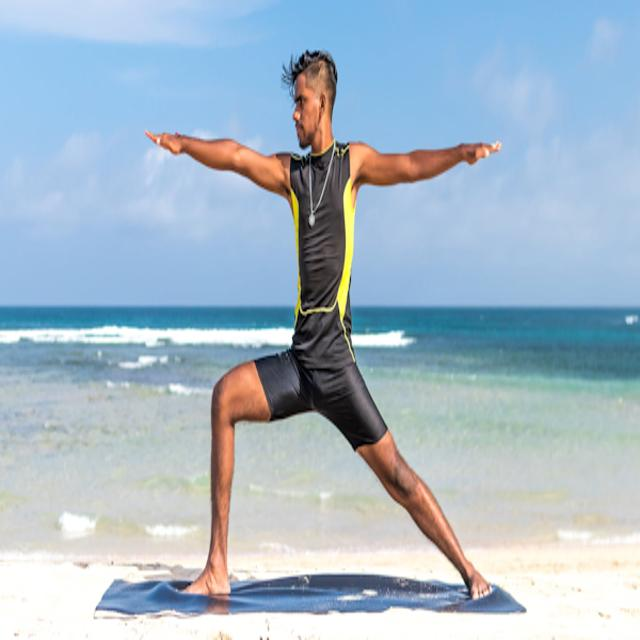Warrior_II: (129, 34, 519, 601)
